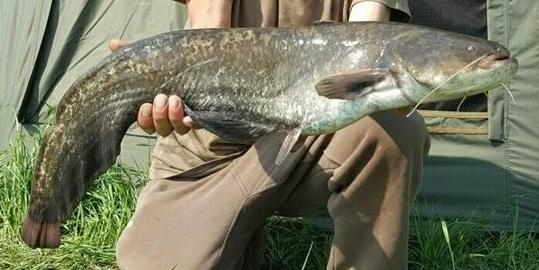Catfish: (18, 22, 516, 249)
